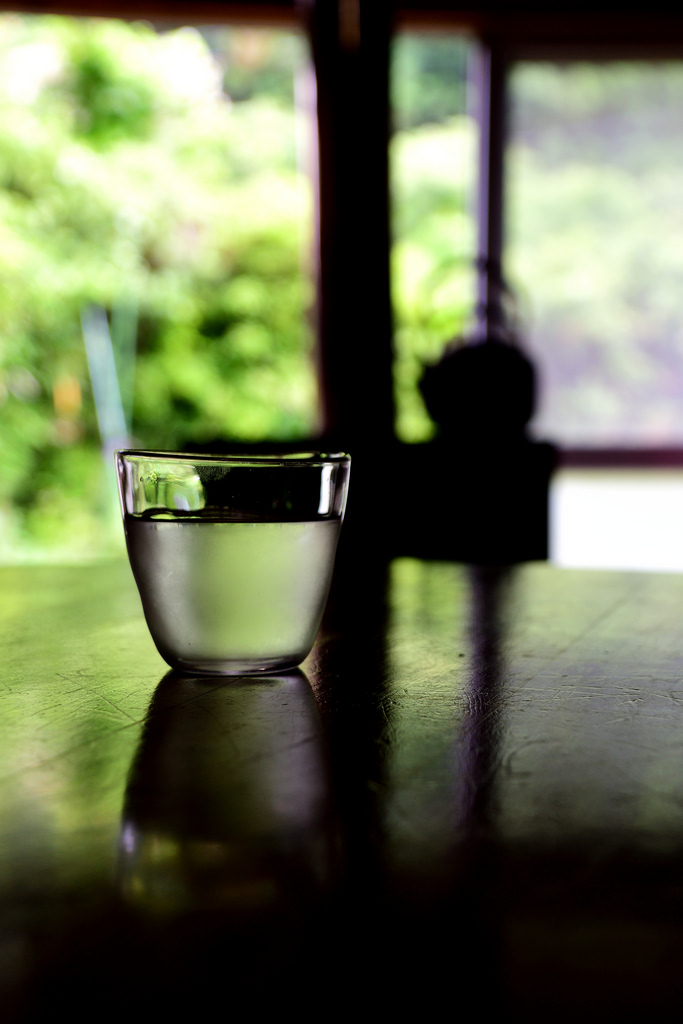glass of water: (115, 444, 354, 677)
